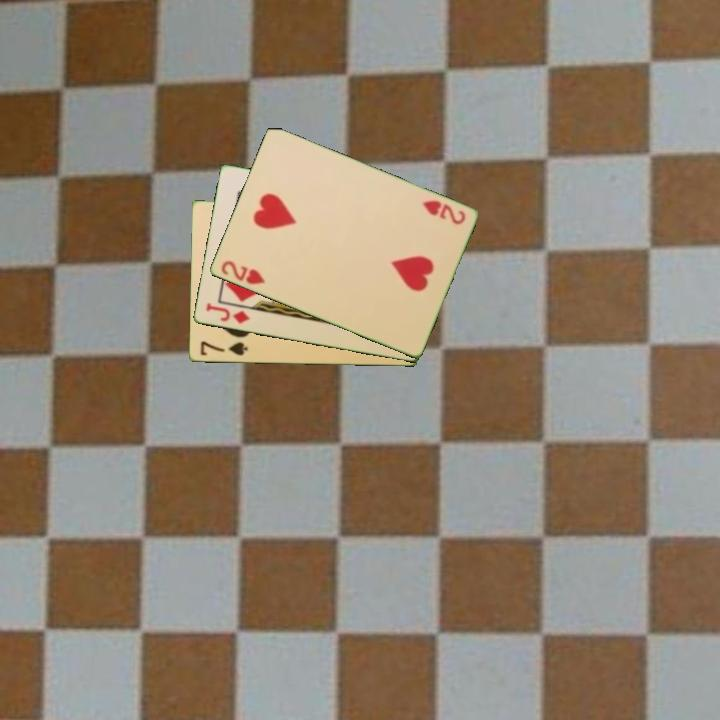2h: (217, 257, 268, 288), (419, 197, 468, 228)
7s: (196, 338, 250, 359)
Jd: (202, 300, 252, 327)
